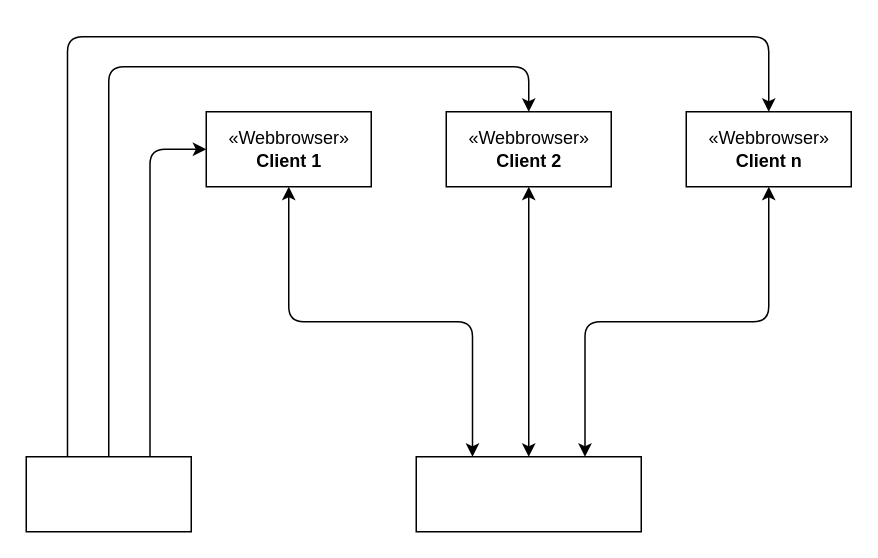
Some shapes in this 878 by 558 pixel diagram are drawn without their labels. Here are the shapes that lost their labels. From the top down, the centre of each, then its label:
point (108, 493): Webserver
point (528, 493): «HTTP Api, Websocket» Server
